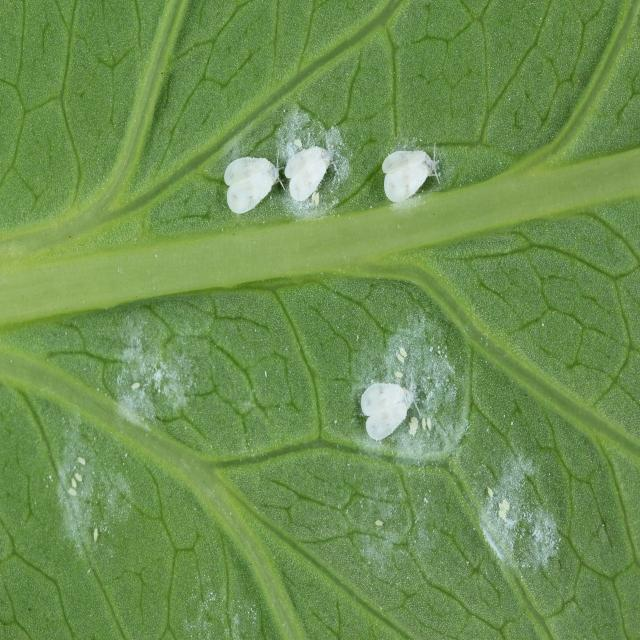whiteflies: (278, 131, 345, 210), (354, 370, 424, 445), (212, 146, 284, 214), (371, 138, 442, 206)
